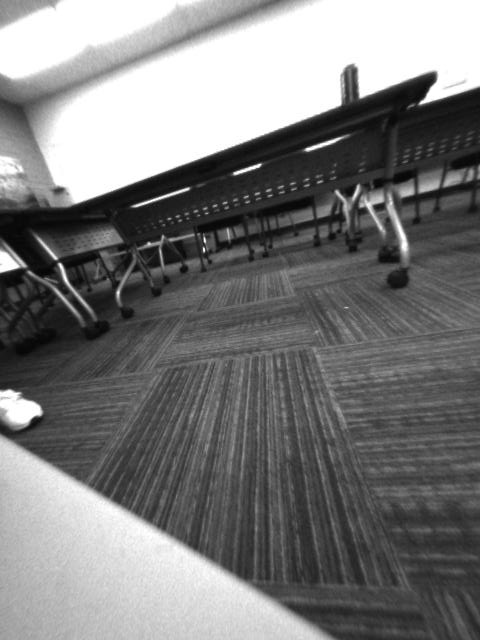can: (337, 61, 361, 106)
